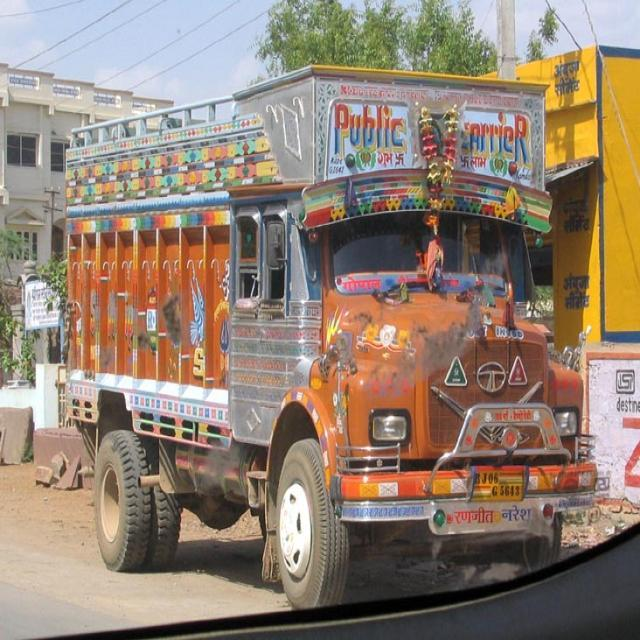truck_front: (57, 56, 606, 620)
